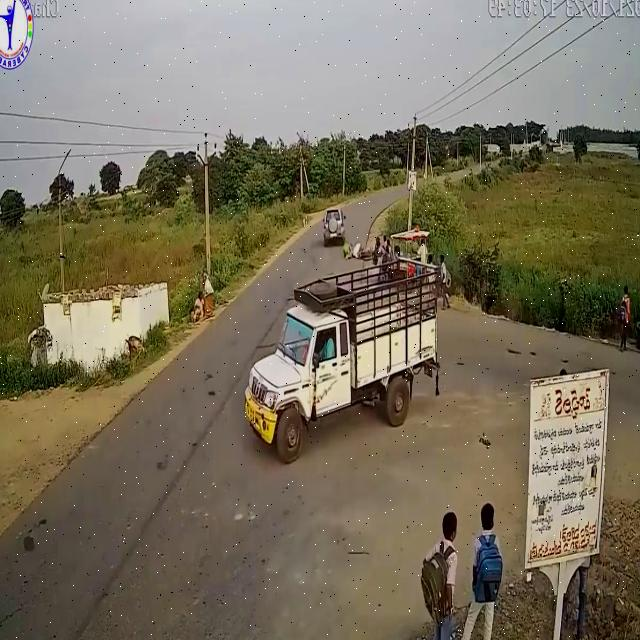accident: (319, 203, 376, 267)
